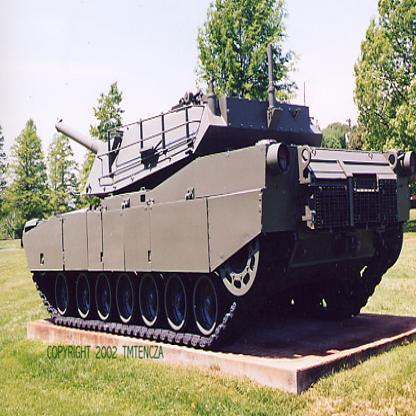Tank: (17, 79, 416, 372)
